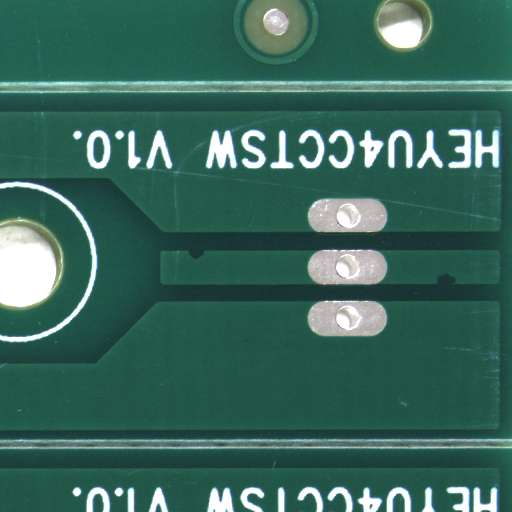Mouse_bite: (447, 279, 466, 290), (197, 255, 211, 265)
